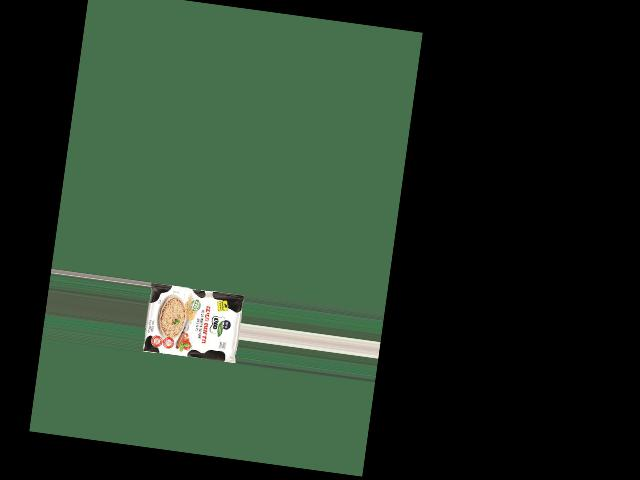cheese: (144, 281, 237, 374)
